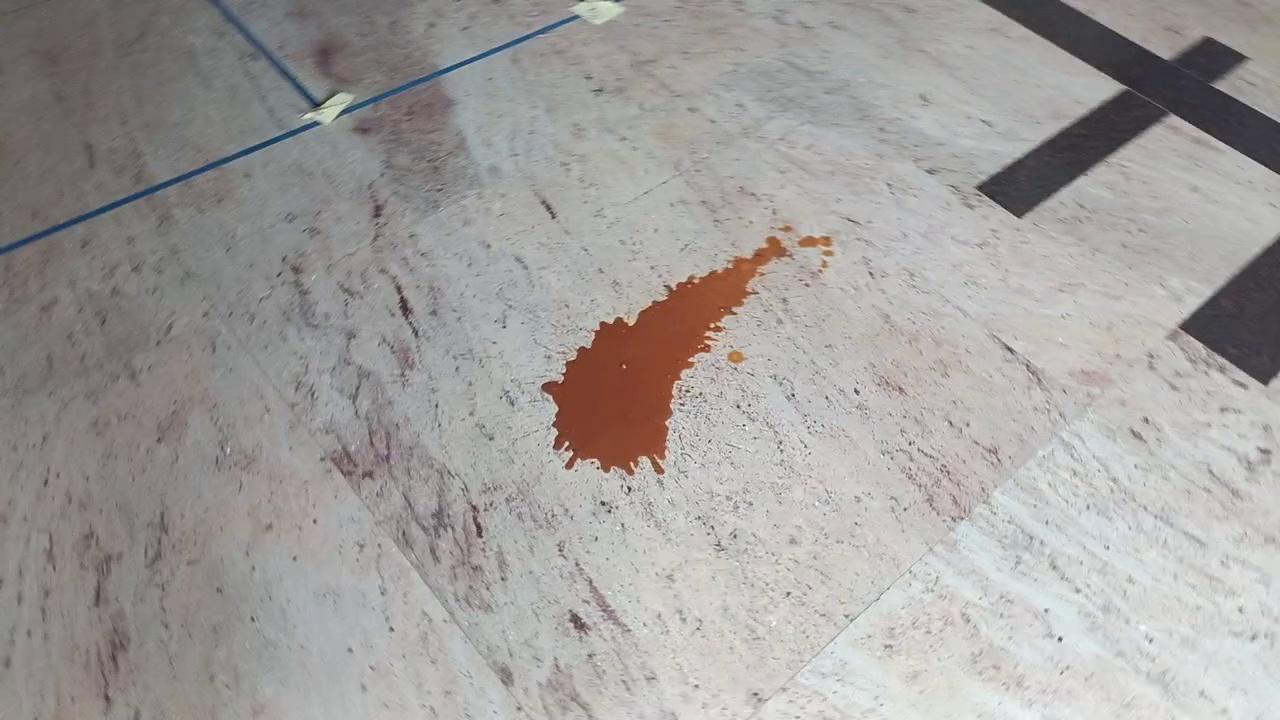dirty_floor: (539, 230, 855, 478)
